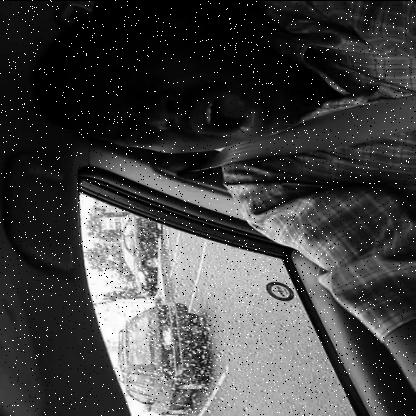seatbelt: (27, 14, 416, 186)
